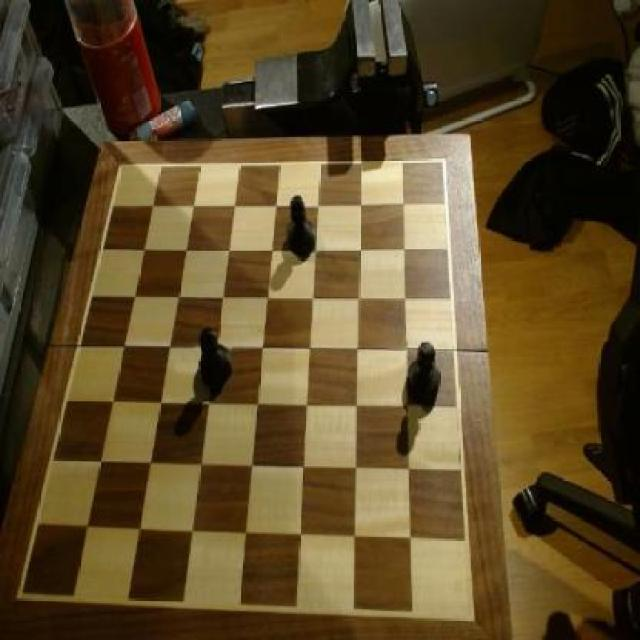black-knight: (404, 340, 440, 412), (195, 325, 233, 393), (284, 194, 318, 259)
